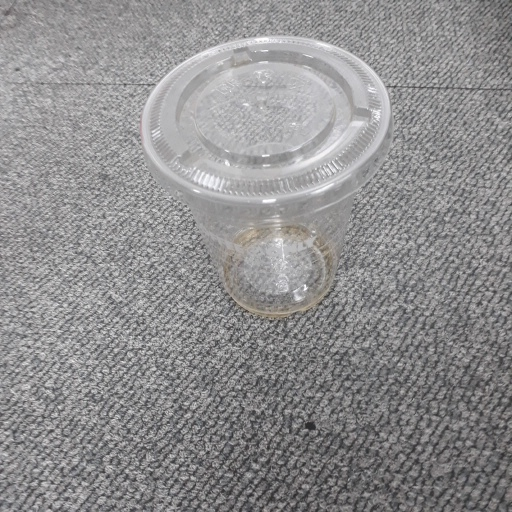Plastic_2: (134, 34, 392, 319)
